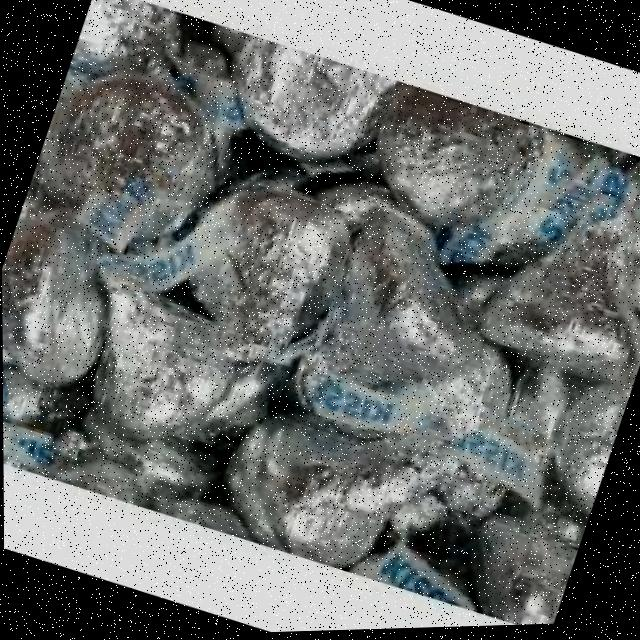kisses: (202, 360, 466, 596), (141, 160, 374, 420), (292, 191, 512, 443), (17, 51, 247, 286), (51, 264, 271, 483), (465, 164, 640, 399), (199, 25, 417, 204), (348, 76, 557, 260), (1, 210, 155, 416), (434, 480, 589, 630)
